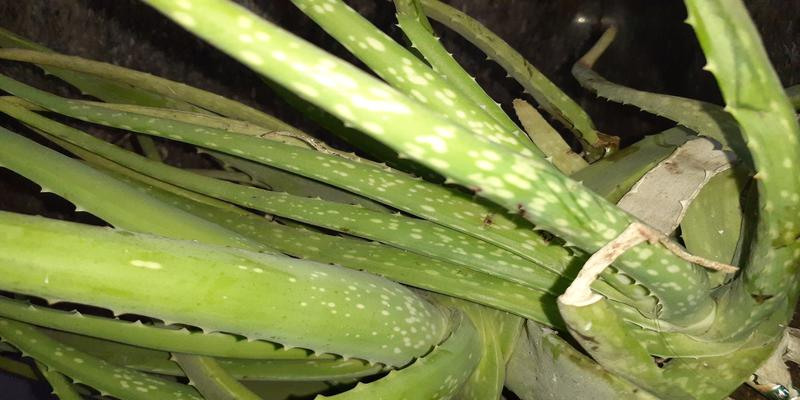Aloevera: (75, 64, 778, 389)
